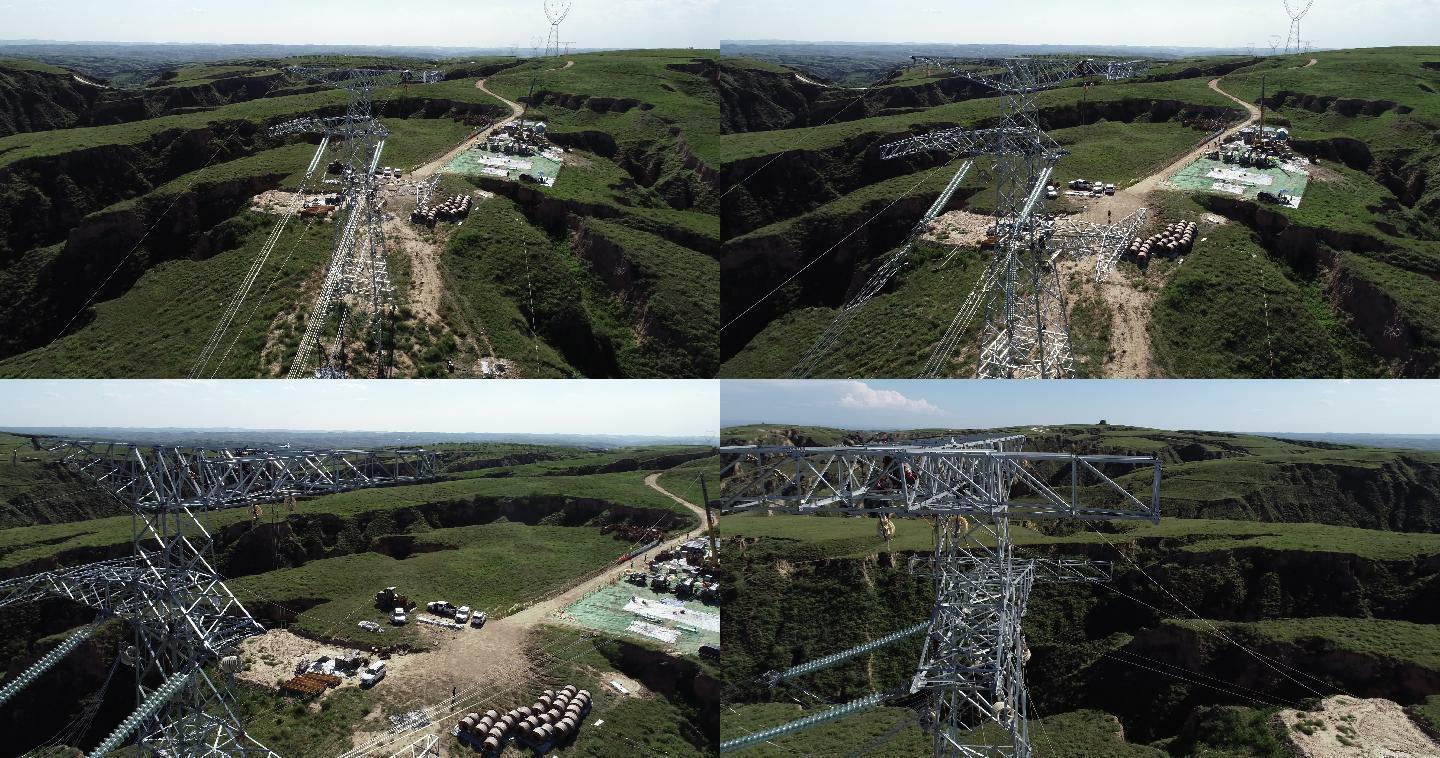power_tower: (0, 427, 454, 758), (727, 428, 1171, 758), (878, 41, 1142, 380), (260, 50, 426, 386), (528, 0, 581, 70), (1278, 0, 1314, 56)
